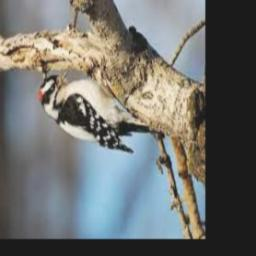Woodpecker: (40, 69, 165, 152)
